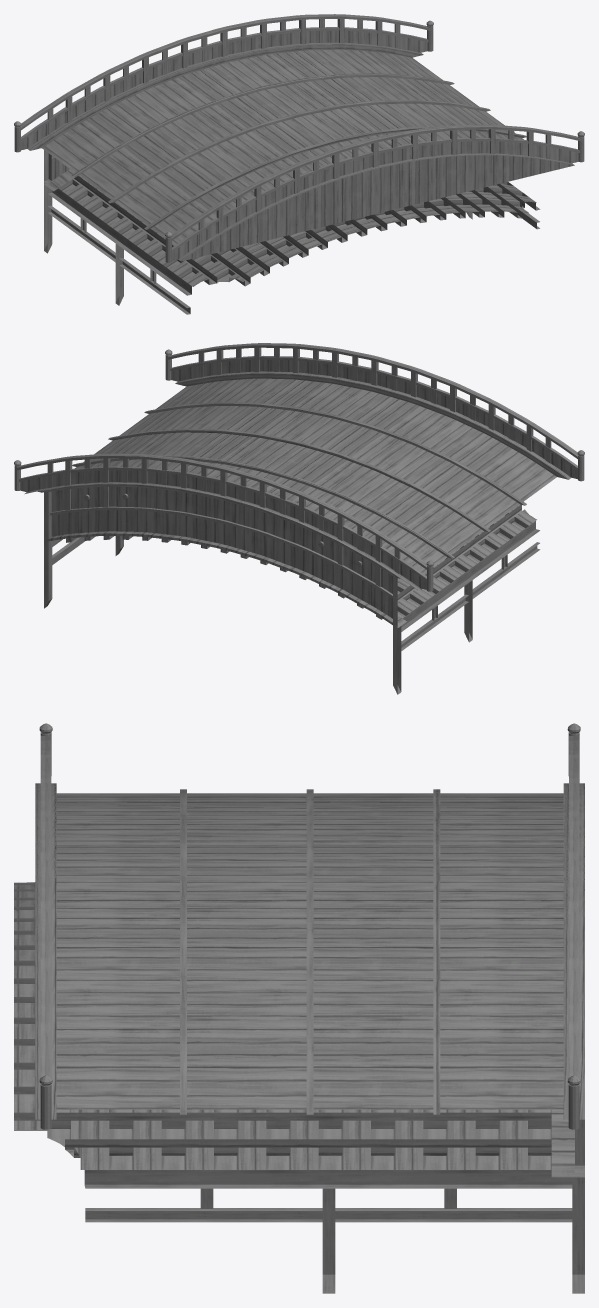
File: SM_ENV_KNVLLG_AreaH_Building_A_2.mo.fbx
3 renders of one model, top to bottom at view 1: azimuth 30°, elevation 25°; view 2: azimuth 150°, elevation 25°; view 3: azimuth 270°, elevation 25°, orthographic. The views are drawn at different scales.
Visible parts, largest first — view 1: SM_ENV_KNVLLG_AreaH_Building_A_2.mo; view 2: SM_ENV_KNVLLG_AreaH_Building_A_2.mo; view 3: SM_ENV_KNVLLG_AreaH_Building_A_2.mo.
Boxes of the visible parts, x1,y1,x2,y2 form: SM_ENV_KNVLLG_AreaH_Building_A_2.mo: (14,14,584,314); SM_ENV_KNVLLG_AreaH_Building_A_2.mo: (14,343,584,694); SM_ENV_KNVLLG_AreaH_Building_A_2.mo: (14,723,584,1293).
Size of the model in its own units: 17.77 by 7.36 by 12.
